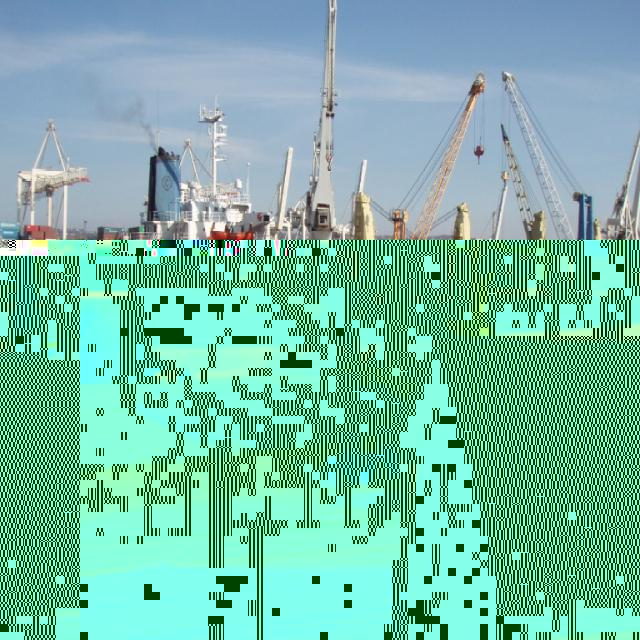OCR: (16, 256, 71, 284)
